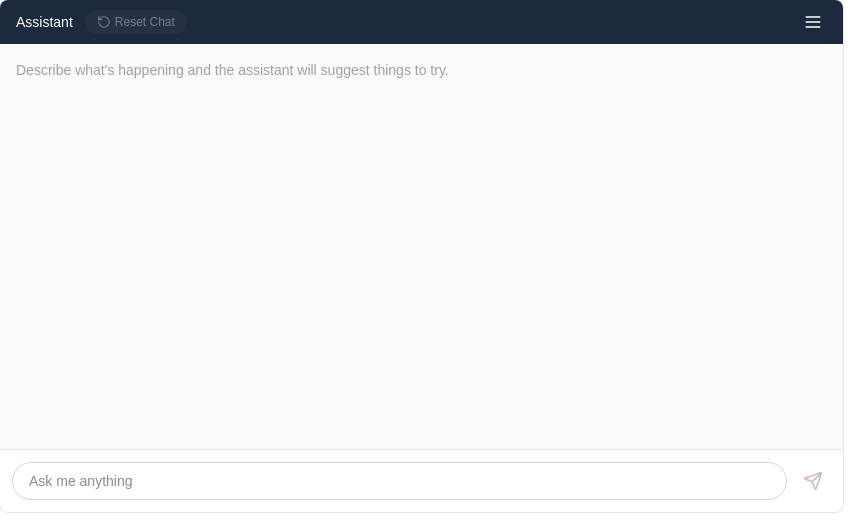
it: surfaces the failure message when the assistant is unreachable
Type "He skipped dinner" into the field named "describe".
click(399, 481); type("He skipped dinner")  # box left=12, top=462, right=787, bottom=500
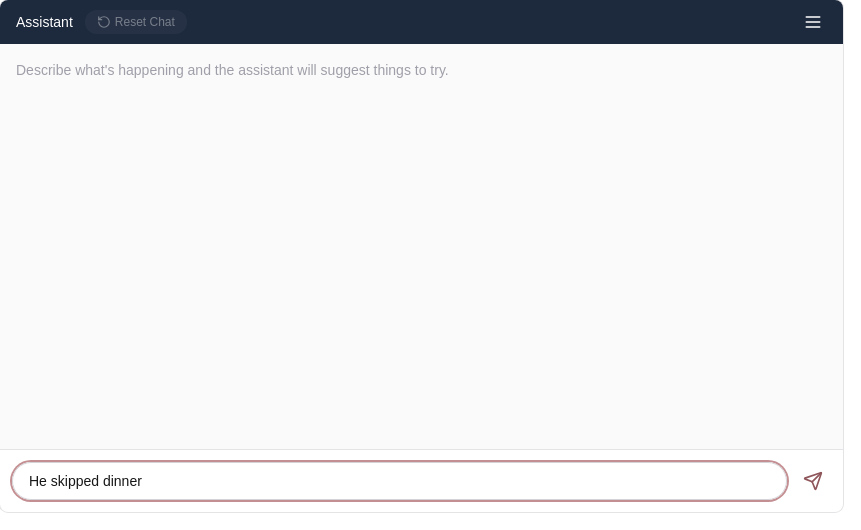
Click the button named "send".
click(813, 481)  # box left=795, top=463, right=831, bottom=499
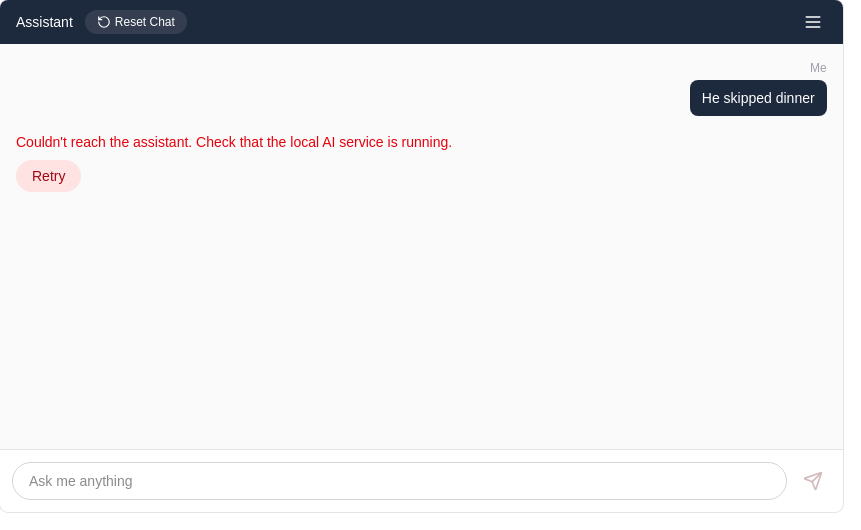
Now the message shows "Couldn't reach the assistant", box left=16, top=134, right=452, bottom=150
Now the button "Retry" is shown, box left=16, top=160, right=82, bottom=192
